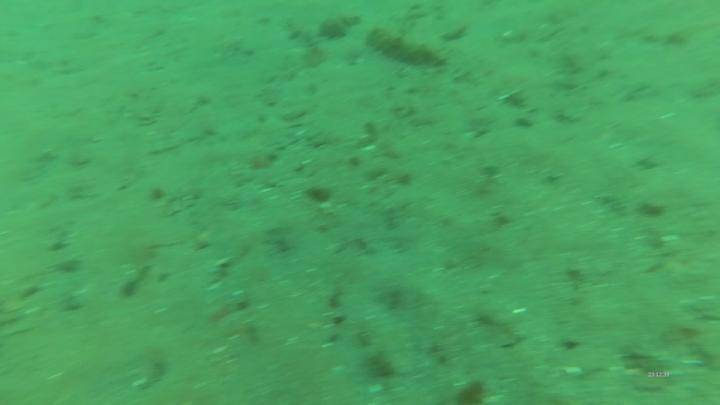holothurian: (366, 22, 447, 72)
